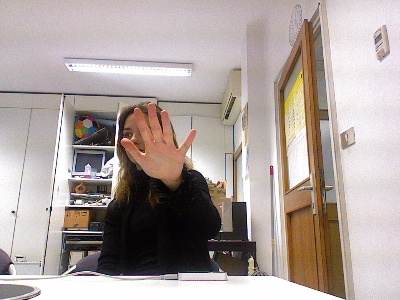布: (119, 101, 196, 180)
